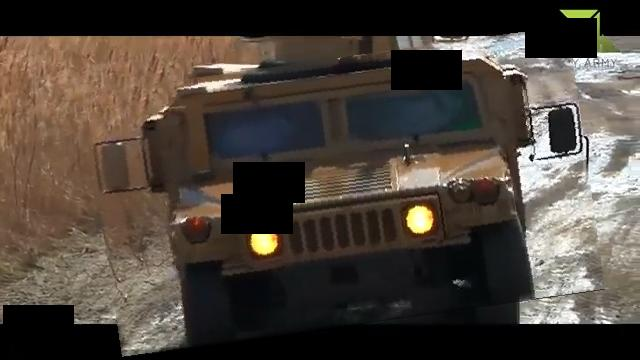MIL_HMMWV: (94, 42, 598, 341)
